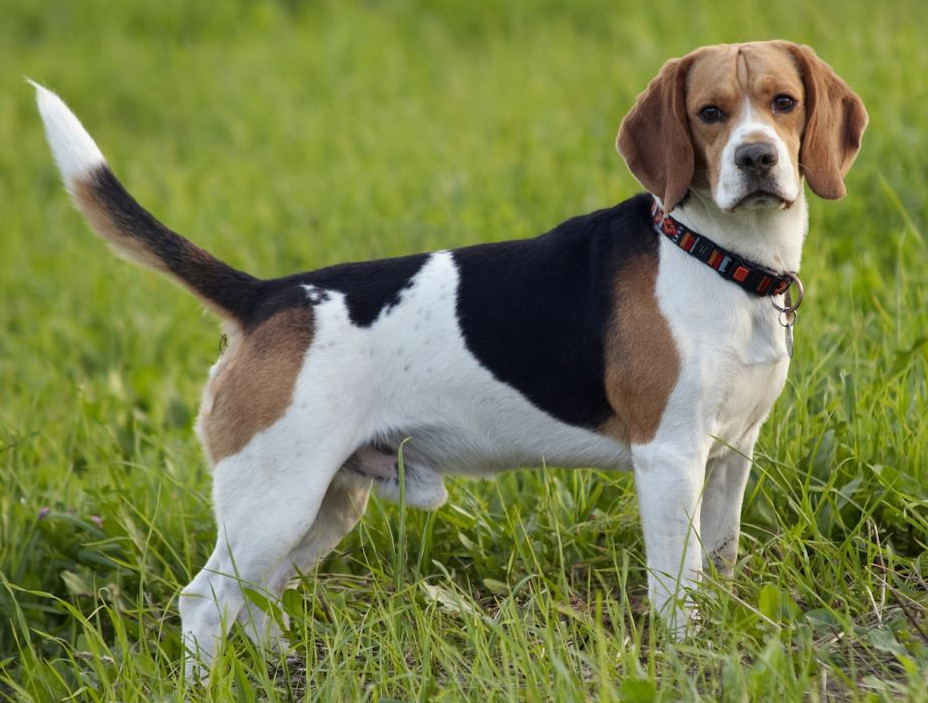dog: (0, 0, 928, 703)
